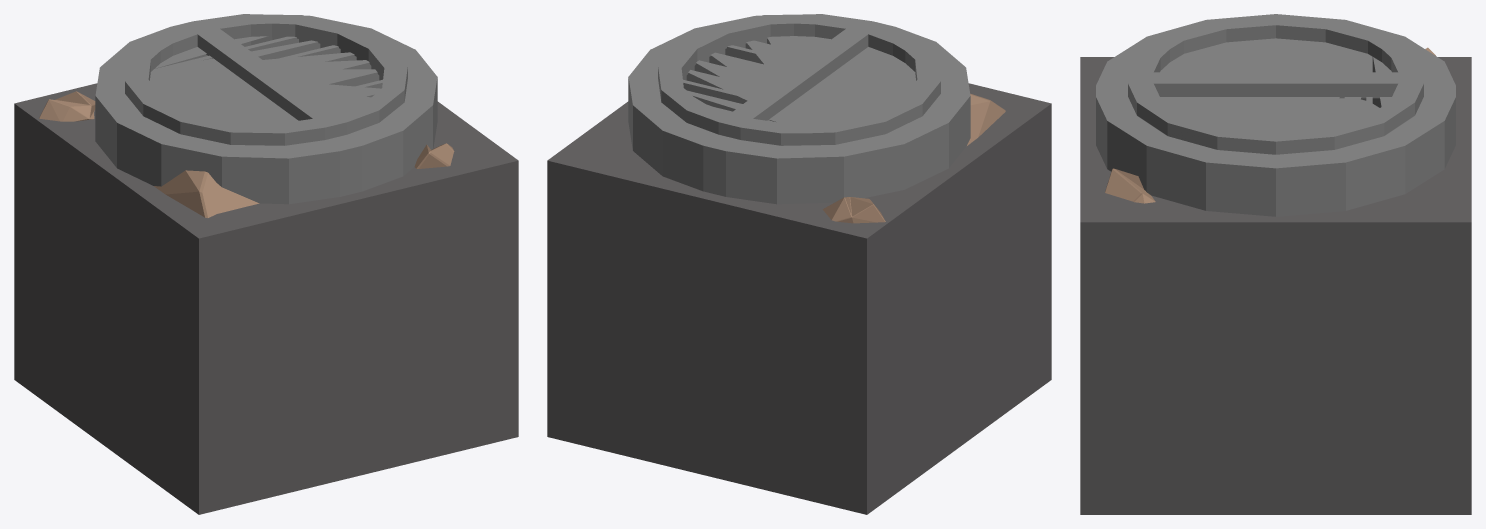
The model's file is Egout.fbx.
The picture shows the model from 3 angles, left to right: view 1: azimuth 30°, elevation 25°; view 2: azimuth 150°, elevation 25°; view 3: azimuth 270°, elevation 25°; orthographic projection. The views are drawn at different scales.
Parts seen in each view (by area): view 1: Egout; view 2: Egout; view 3: Egout.
Part boxes in pixels (<box>): Egout: <box>14,14,518,514</box>; Egout: <box>547,14,1051,514</box>; Egout: <box>1080,14,1471,514</box>.
Bounding box in the file's own units: 100 × 100 × 100.
